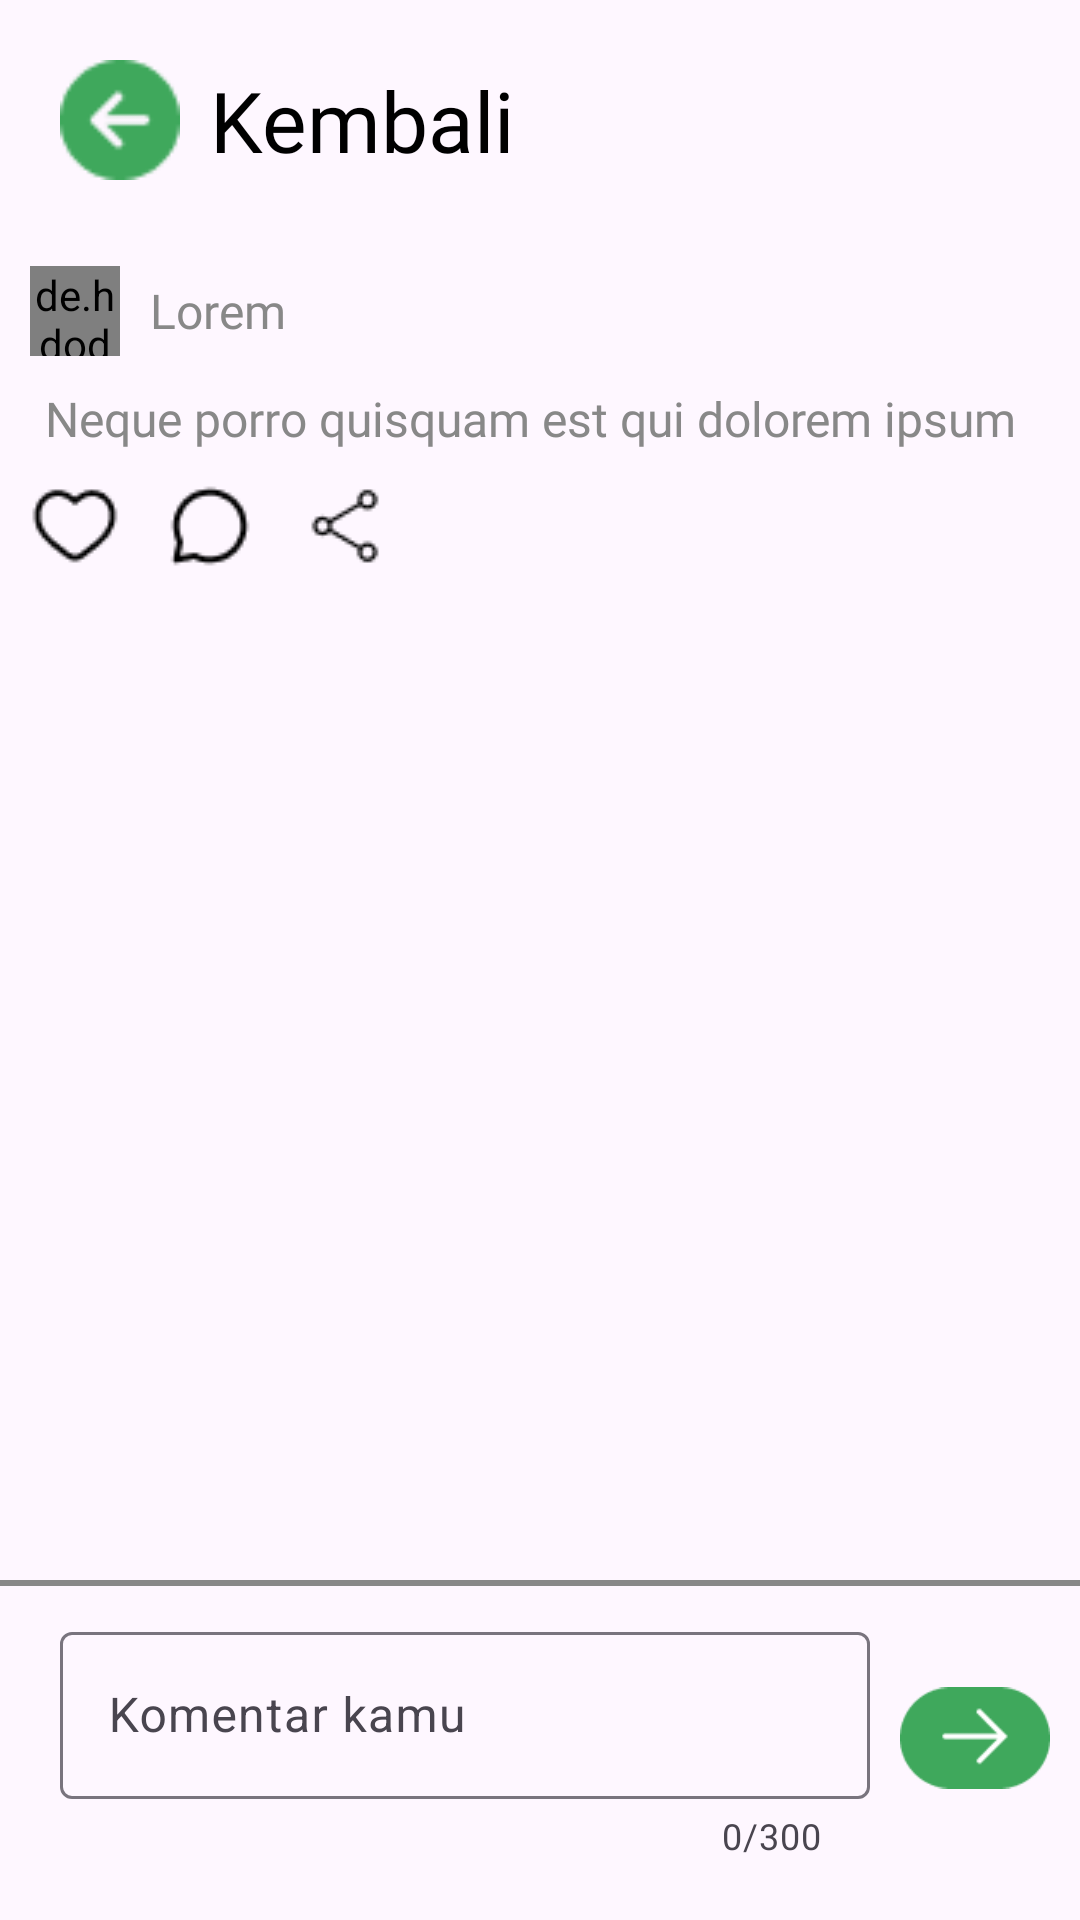

Screen size 1080px×1920px. Icon name, then its center in pixels as point (x, y):
back: point (120, 120)
comment: point (210, 526)
kirim: point (975, 1738)
like: point (75, 526)
share: point (345, 526)
